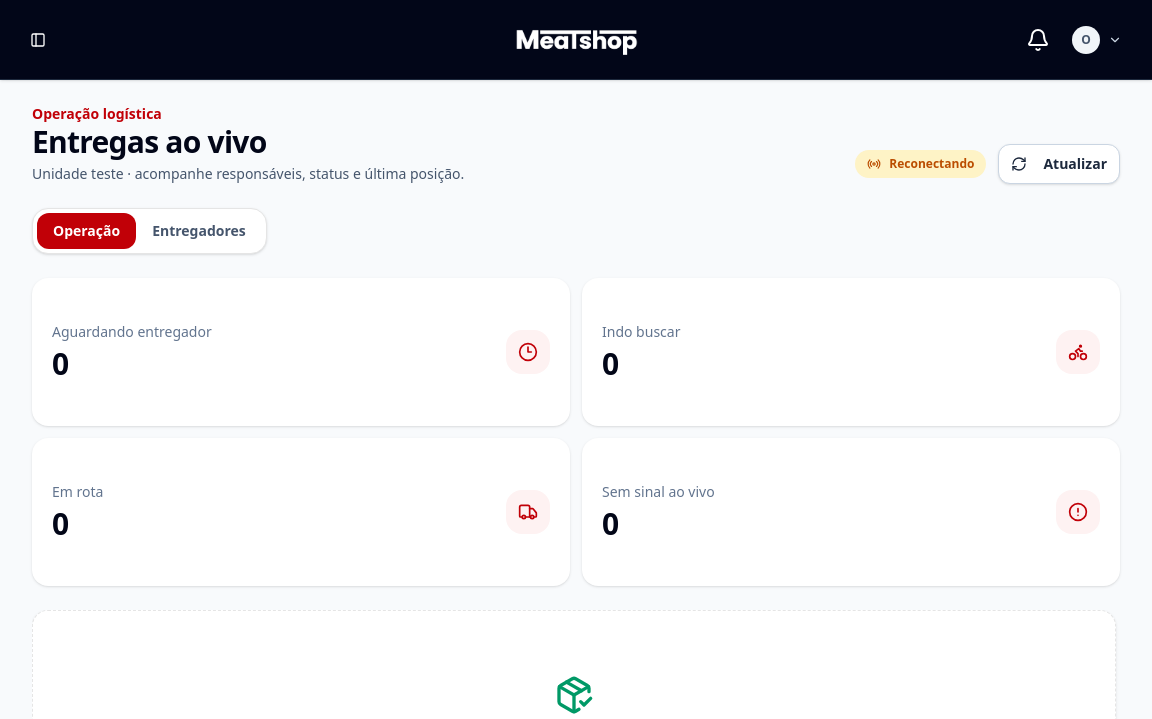
Test case: Panel pagination and account controls › requests delivery people ten at a time using the shared table
The width and height of the screenshot is (1152, 719).
Click the button "Entregadores": (199, 231) [136,213,262,249]
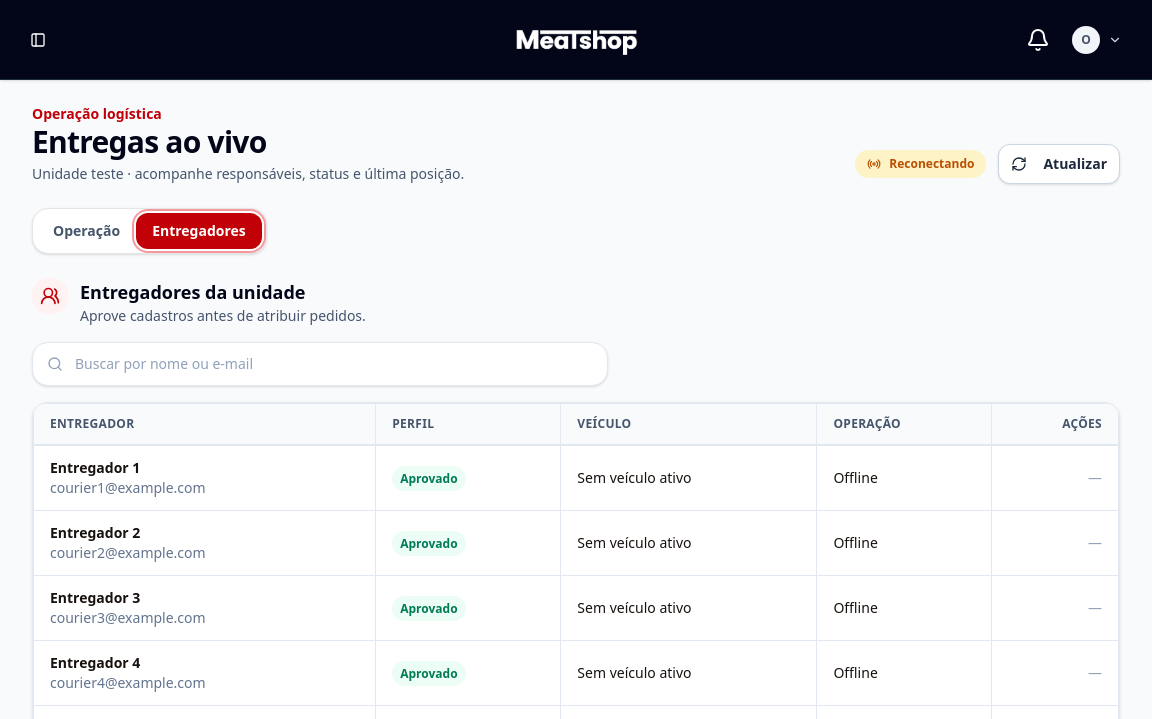
Scroll
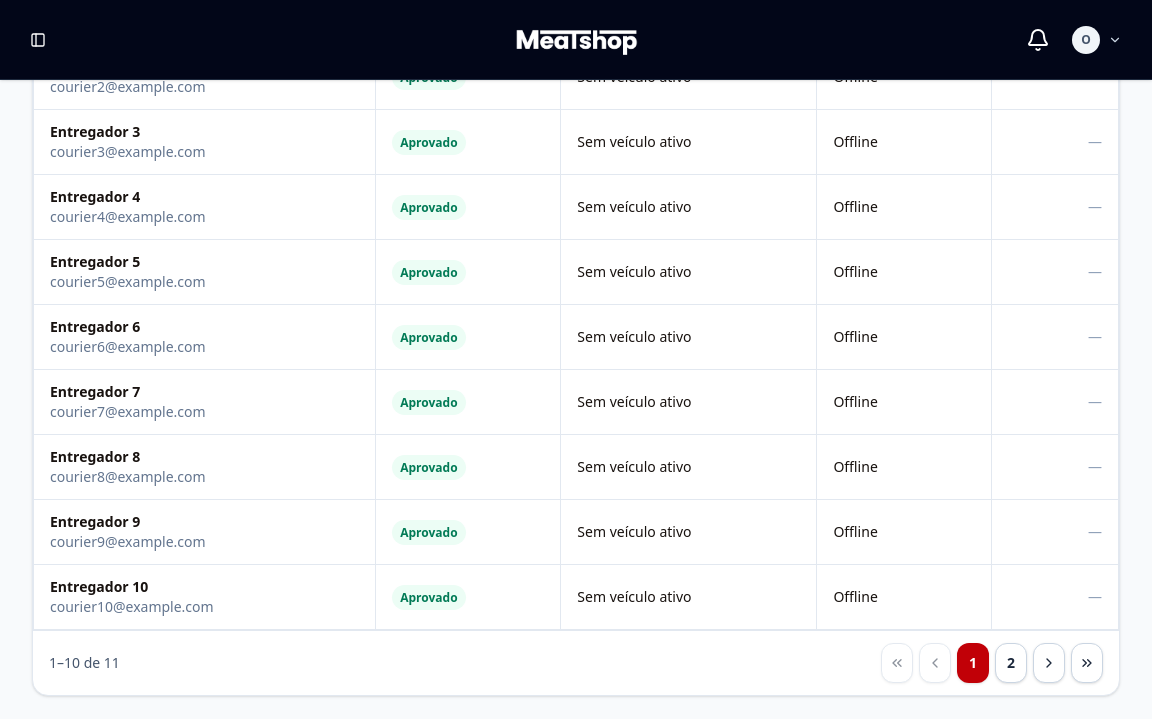
Click the button named "Próxima página": (1049, 663) [1033,643,1065,683]
(page scrolled)
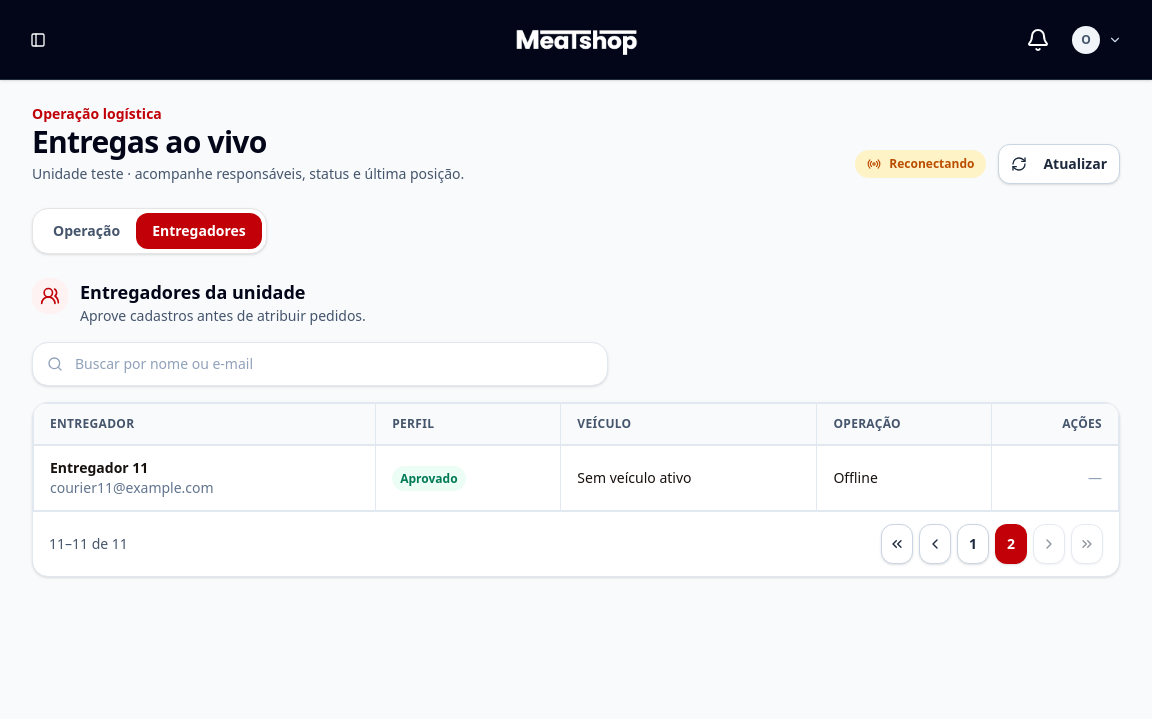
Expected: the text "Entregador 11" is shown, [50,458,148,477]
